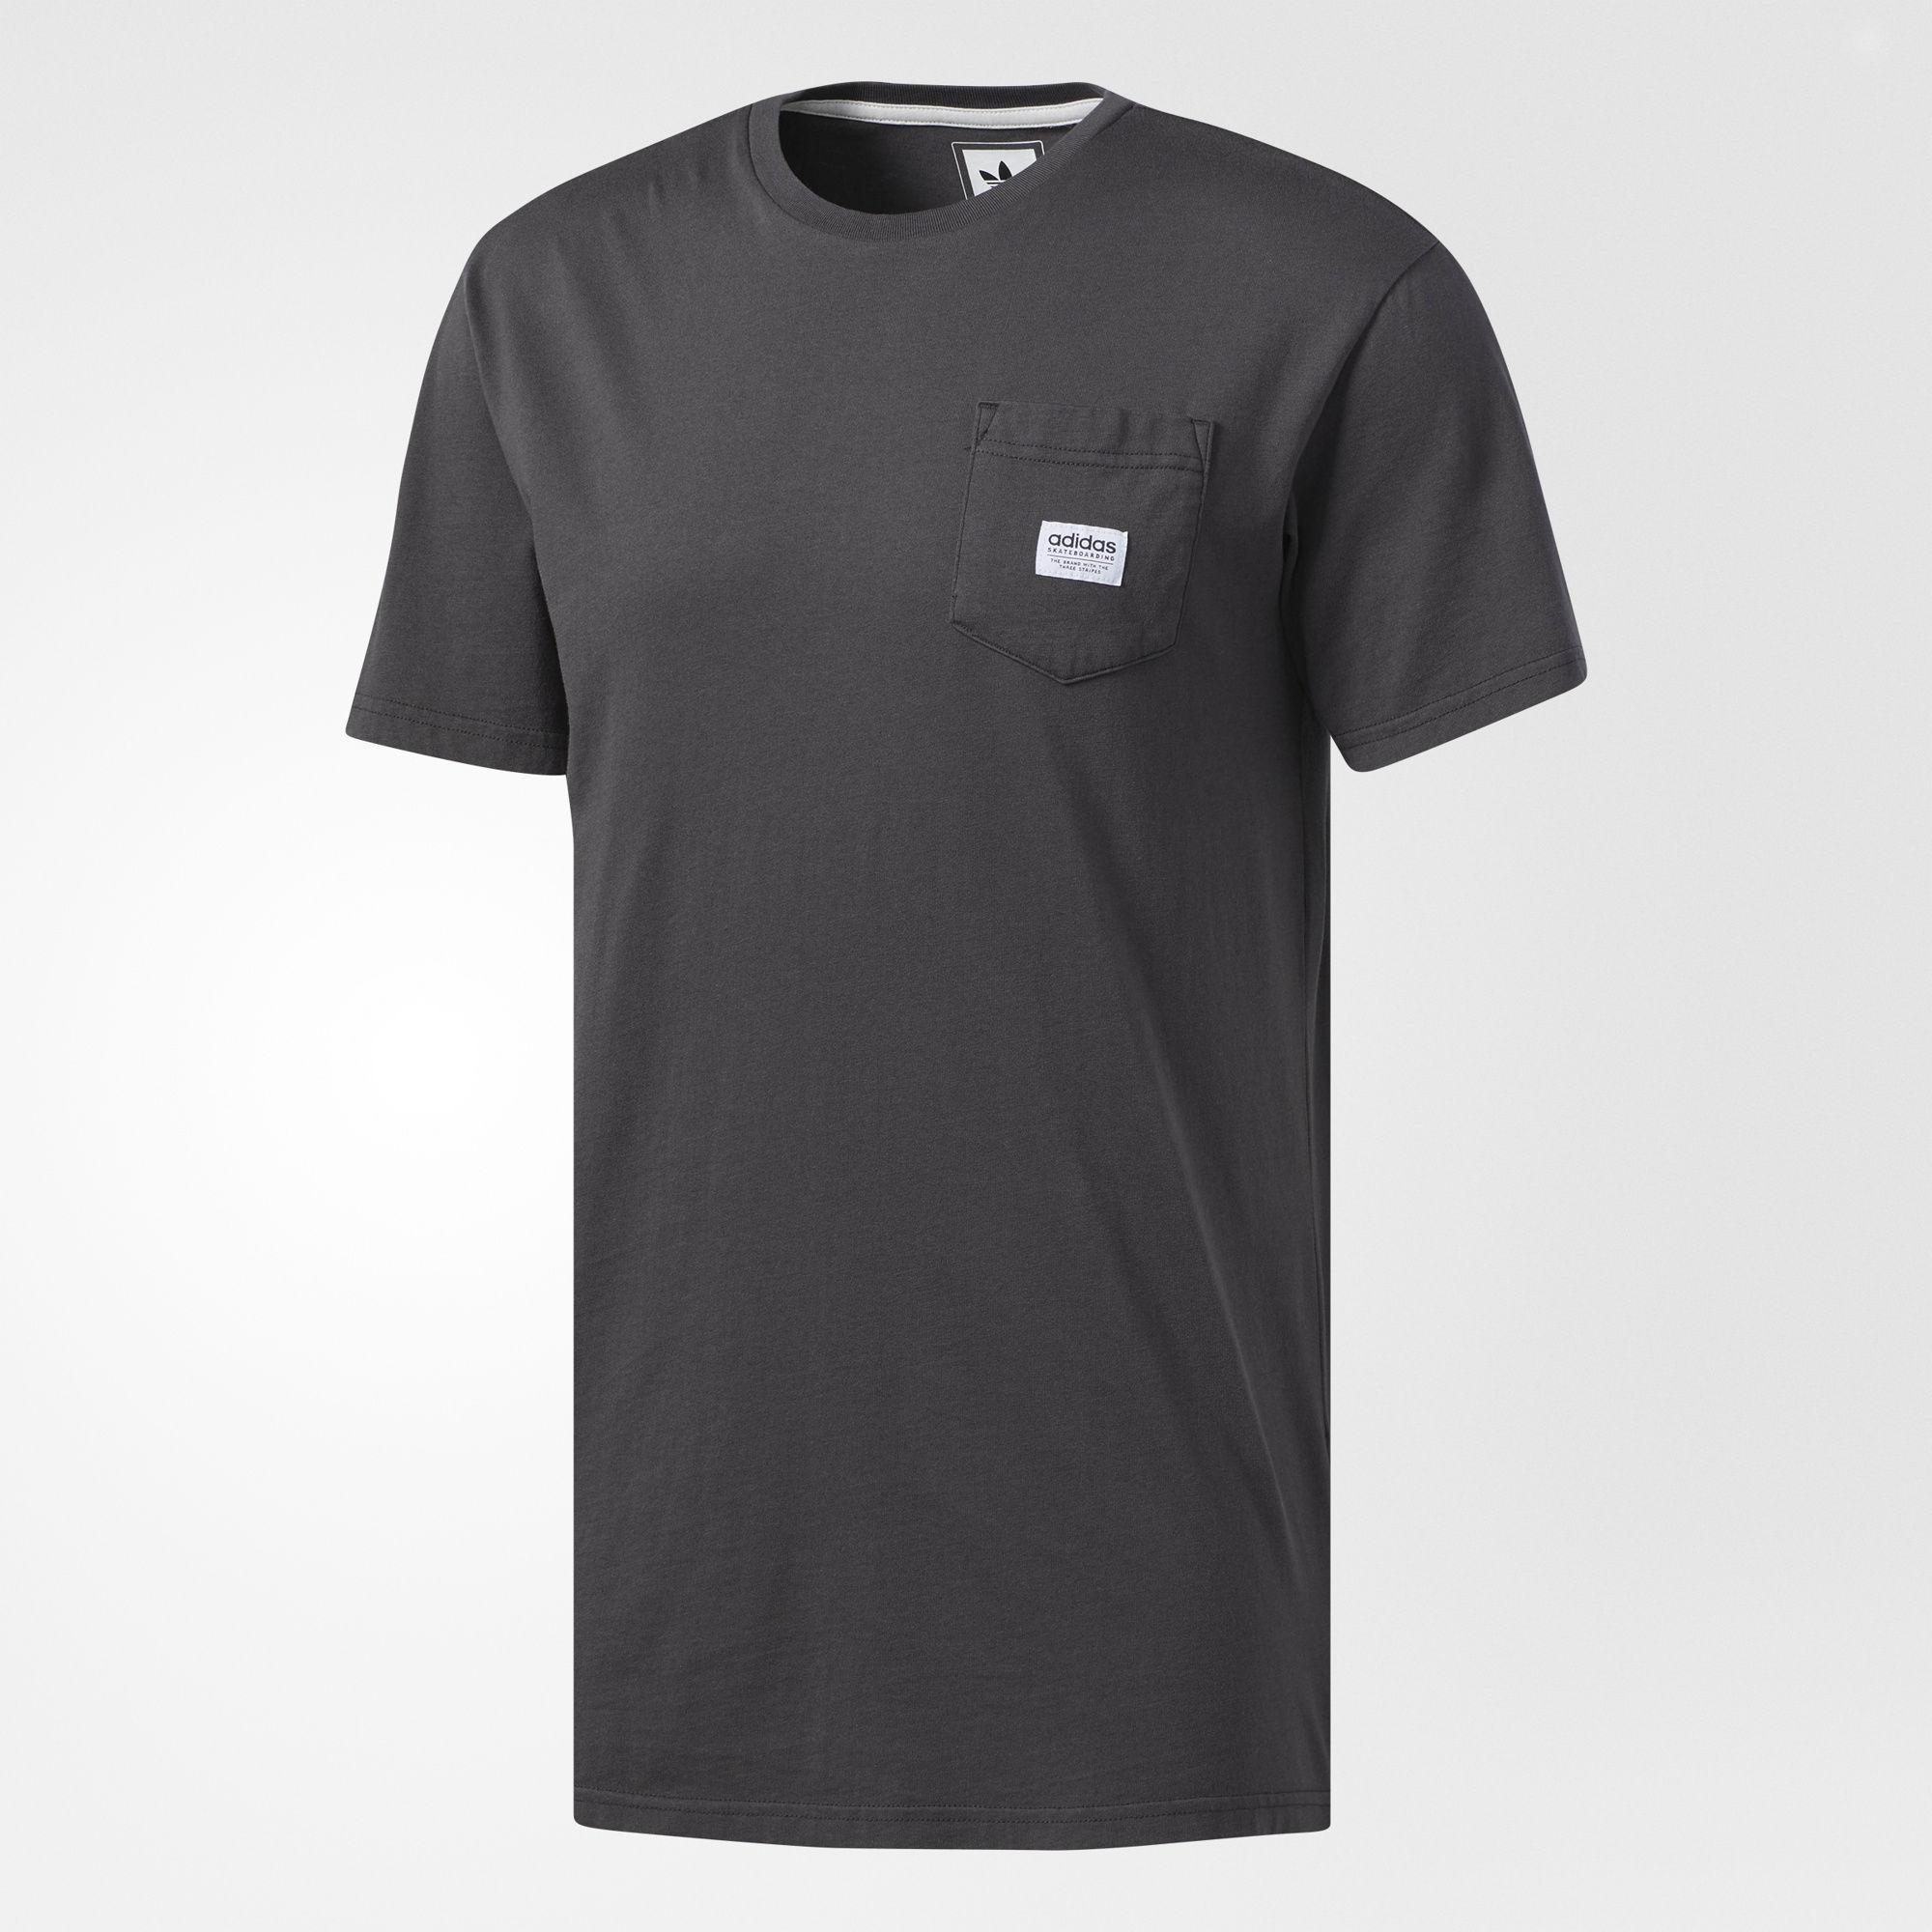teeshirt: (303, 50, 1603, 1932)
